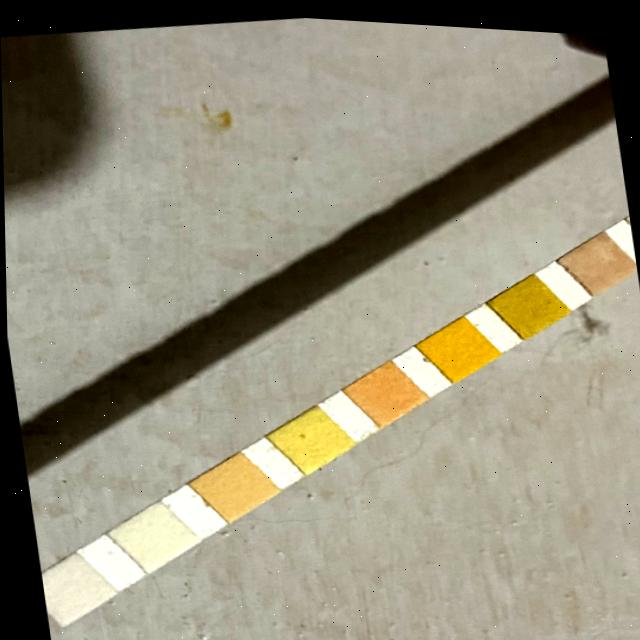Blood: (432, 321, 481, 363)
Ketone: (572, 236, 623, 275)
Leukocytes: (40, 566, 97, 610)
Nitrite: (124, 512, 179, 557)
Protein: (282, 414, 334, 457)
SpGravity: (503, 279, 552, 321)
Urobilinogen: (204, 461, 258, 505)
pH: (355, 367, 409, 410)
